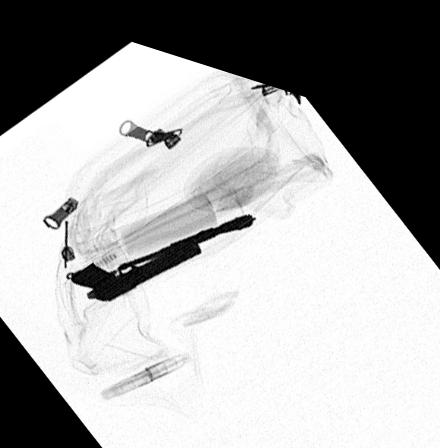Gun: (66, 224, 199, 294)
